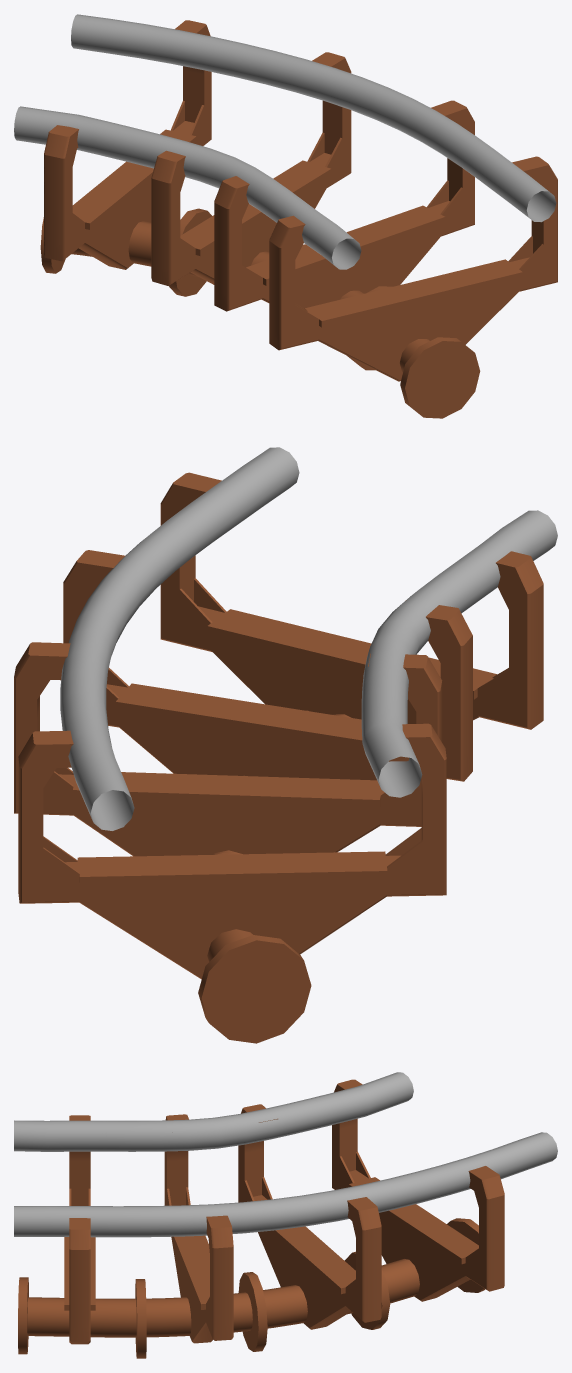
The model's file is virage plat.fbx.
3 renders of one model, top to bottom at view 1: azimuth 30°, elevation 25°; view 2: azimuth 150°, elevation 25°; view 3: azimuth 270°, elevation 25°, orthographic. The views are drawn at different scales.
Visible parts, largest first — view 1: polySurface141; view 2: polySurface141; view 3: polySurface141.
Part boxes in pixels (box(x1,y1,x2,y2)): polySurface141: box(14, 14, 557, 418); polySurface141: box(14, 447, 557, 1043); polySurface141: box(14, 1072, 557, 1358).
Bounding box in the file's own units: 9.49 × 5.16 × 13.58.
